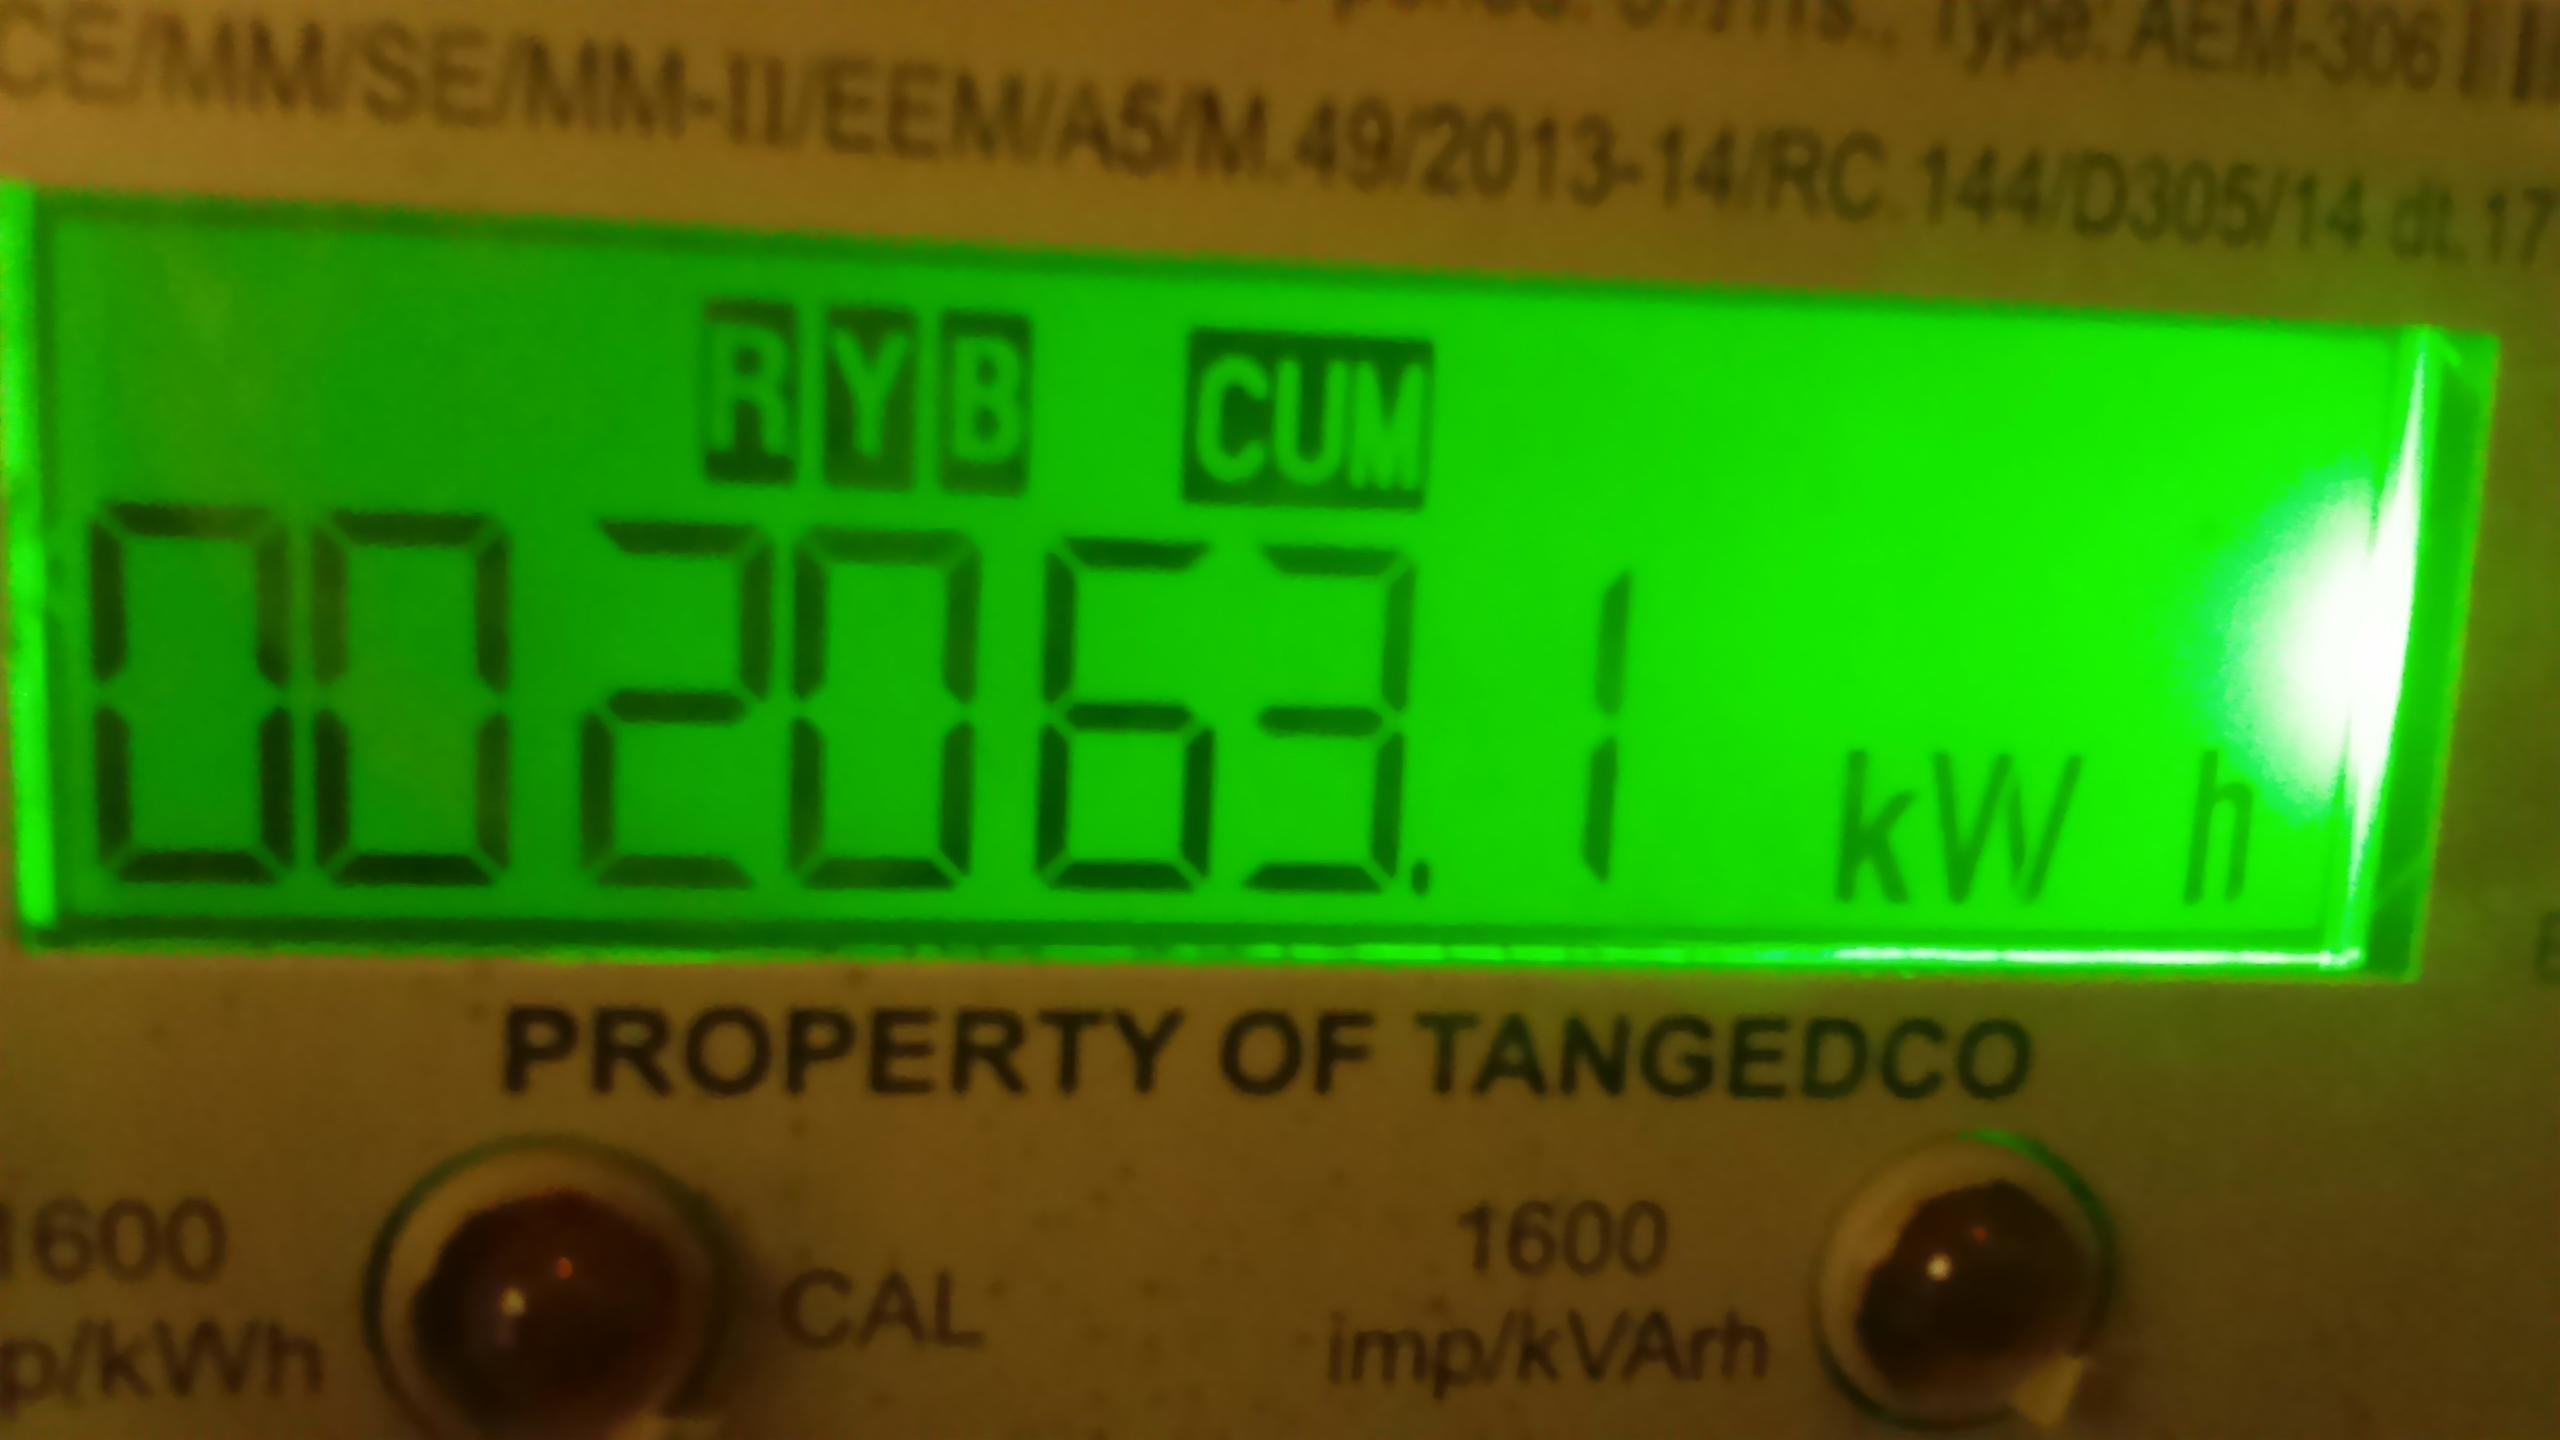.: (1812, 724, 2264, 921)
0: (1378, 818, 1512, 922)
1: (72, 478, 308, 912), (322, 473, 545, 882), (812, 513, 1024, 902)
2: (1572, 538, 1667, 899)
3: (562, 503, 791, 919)
4: (1247, 513, 1408, 949)
7: (1028, 493, 1242, 932)
